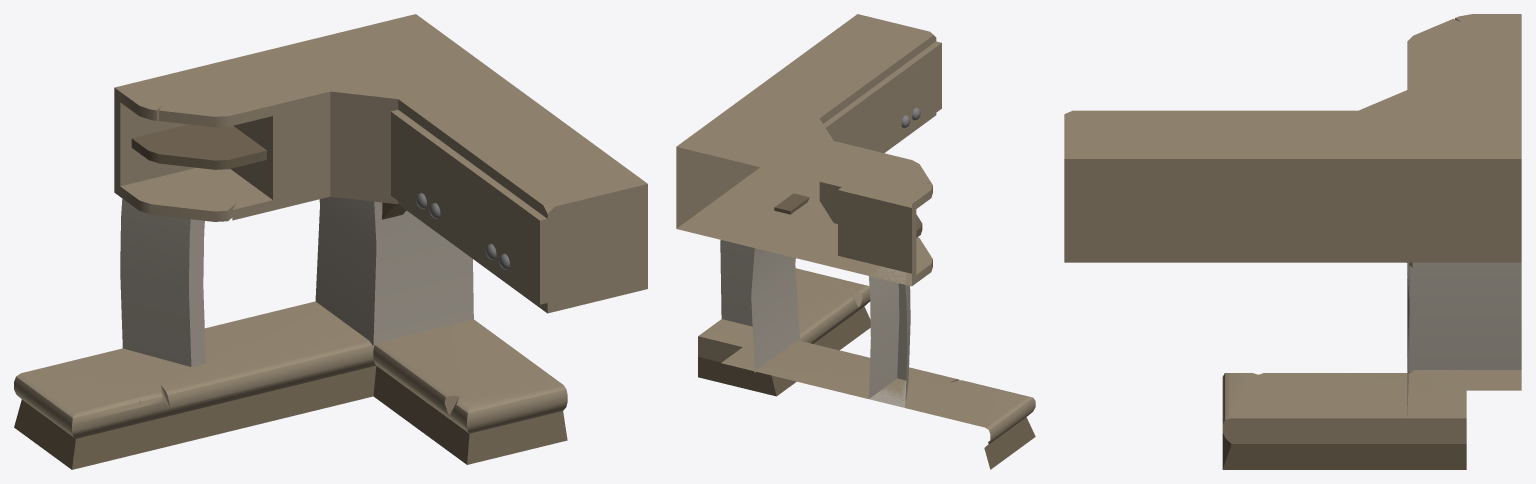
Rendered from SM_Cabinets01.fbx.
The picture shows the model from 3 angles, left to right: view 1: azimuth 30°, elevation 25°; view 2: azimuth 150°, elevation 25°; view 3: azimuth 270°, elevation 25°; orthographic projection. The views are drawn at different scales.
Parts seen in each view (by area): view 1: pCube54; view 2: pCube54; view 3: pCube54.
Boxes of the visible parts, x1,y1,x2,y2 form: pCube54: (14, 14, 647, 469); pCube54: (676, 14, 1035, 469); pCube54: (1064, 14, 1521, 469).
Bounding box in the file's own units: 400 × 300 × 400.
